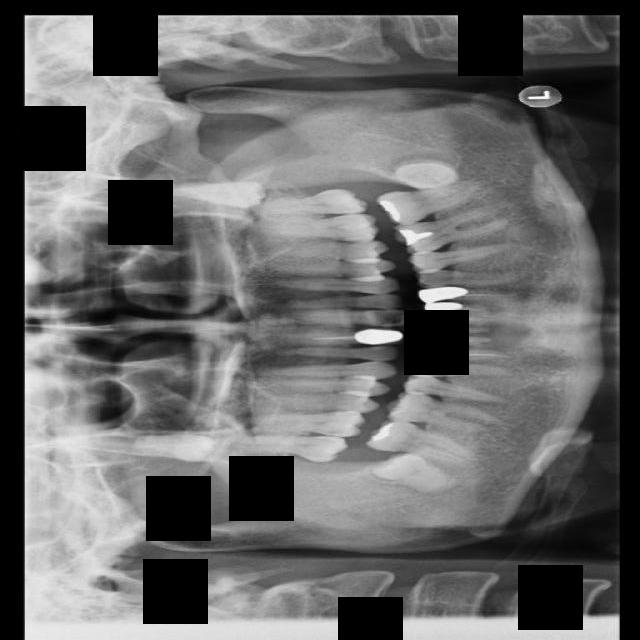52: (413, 283, 468, 363), (376, 176, 437, 233), (365, 412, 426, 458), (392, 216, 452, 258), (353, 325, 404, 345)
73: (275, 329, 361, 345), (449, 287, 519, 302), (448, 348, 515, 361), (454, 301, 495, 315), (451, 314, 496, 326), (450, 336, 493, 345), (454, 325, 490, 334), (531, 92, 541, 98)
BioHorizons Implant: (258, 185, 370, 216)
Biomet 3i Implant: (391, 130, 468, 207)
Blue Sky Bio Implant: (375, 178, 498, 228)
Caries: (228, 434, 349, 462)
Implant: (364, 412, 485, 468), (368, 440, 458, 500)
